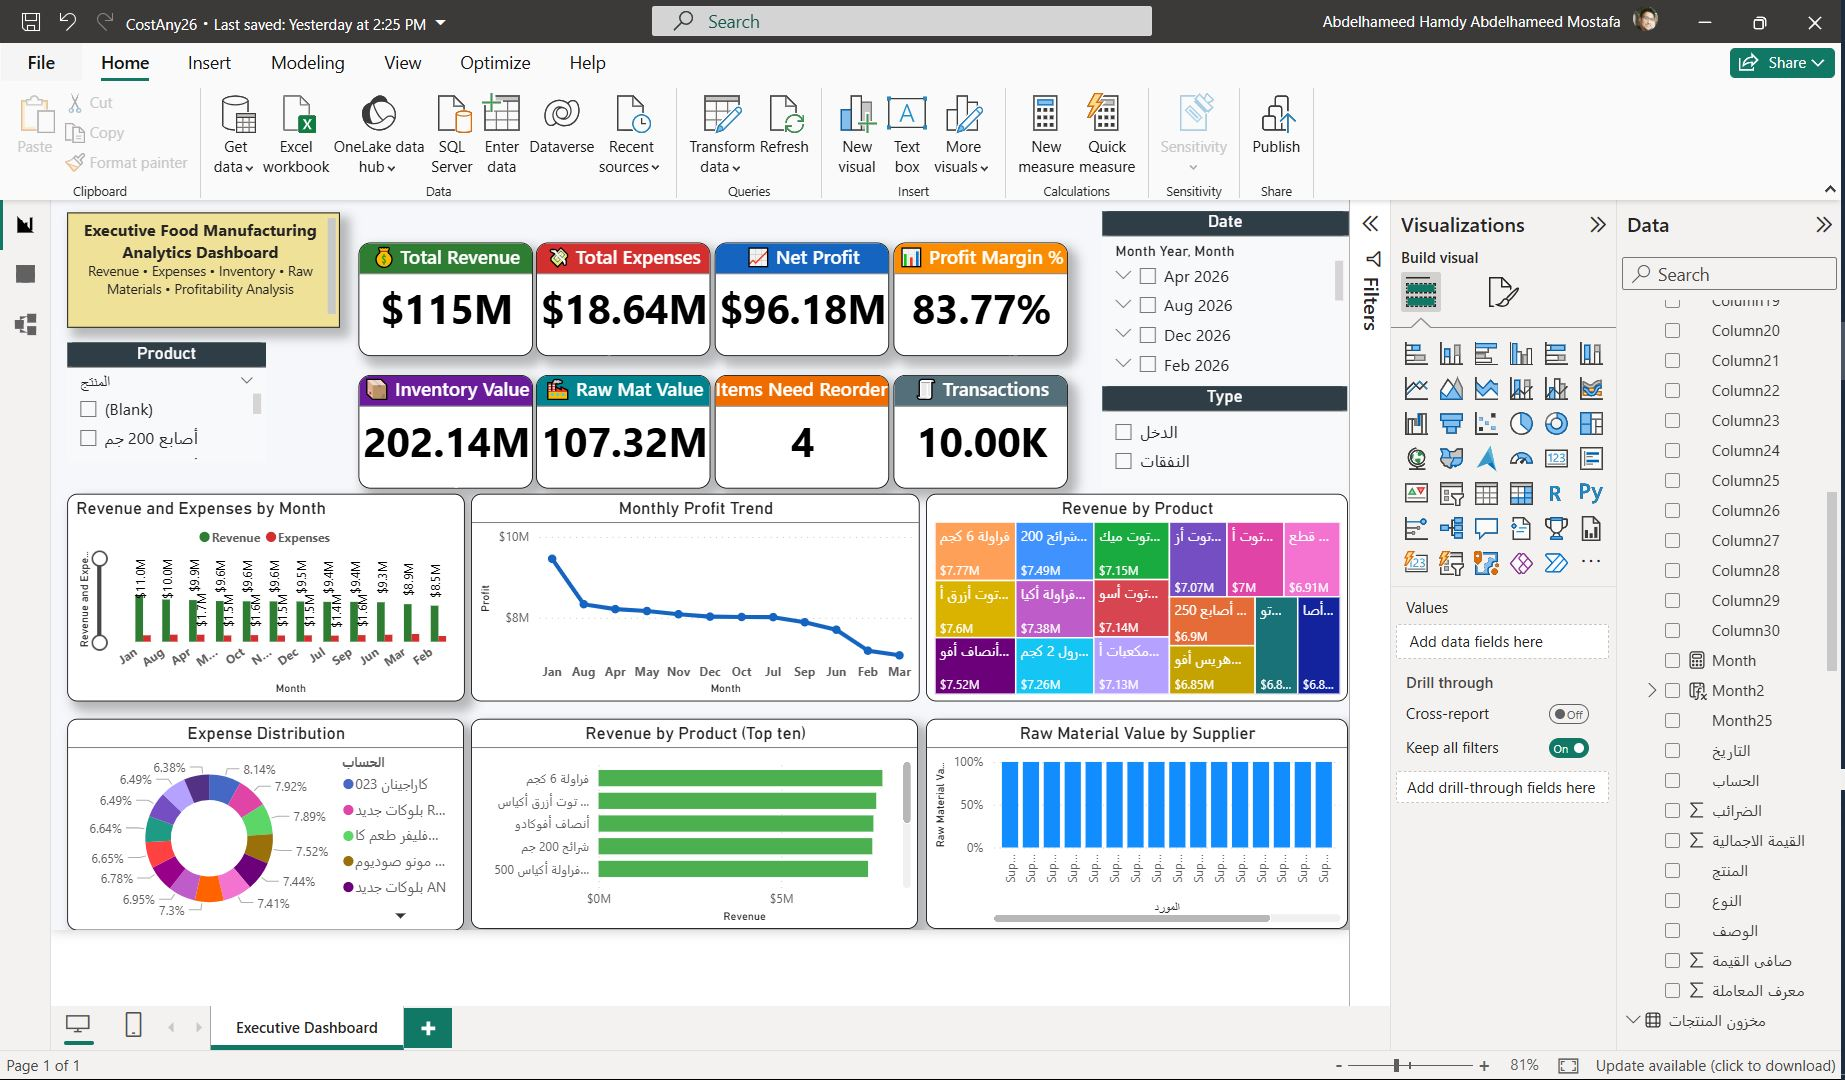

The page's visual inventory and layout, read from the dashboard file:
{"tool":"powerbi","page":{"name":"Executive Dashboard","canvas":[1280,720],"ordinal":0},"visuals":[{"type":"card","title":"💰 Total Revenue","fields":{"Values":["Table.Revenue"]},"box":[302.7,41.5,172,112],"z":0},{"type":"card","title":"💸 Total Expenses","fields":{"Values":["Table.Expenses"]},"box":[478.7,41.5,172,112],"z":1000},{"type":"card","title":"📈 Net Profit","fields":{"Values":["Table.Profit"]},"box":[654.7,41.5,172,112],"z":2000},{"type":"card","title":"📊 Profit Margin %","fields":{"Values":["Table.Profit Margin"]},"box":[830.7,41.5,172,112],"z":3000},{"type":"card","title":"📦 Inventory Value","fields":{"Values":["Table.Inventory Value"]},"box":[302.8,172.8,172,112],"z":4000},{"type":"card","title":"🏭 Raw Mat Value","fields":{"Values":["Table.Raw Material Value"]},"box":[478.8,172.8,172,112],"z":5000},{"type":"card","title":"Items Need Reorder","fields":{"Values":["Table.Need Reorder"]},"box":[654.8,172.8,172,112],"z":6000},{"type":"card","title":"🧾 Transactions","fields":{"Values":["Table.Transaction"]},"box":[830.8,172.8,172,112],"z":7000},{"type":"clusteredColumnChart","fields":{"Category":["Calendar.Month"],"Y":["Table.Revenue","Table.Expenses"]},"box":[15.7,289.2,392.1,204.9],"z":8000},{"type":"lineChart","title":"Monthly Profit Trend","fields":{"Category":["Calendar.Month"],"Y":["Table.Profit"]},"box":[413.7,289.2,442.2,204.9],"z":9000},{"type":"treemap","title":"Revenue by Product","fields":{"Group":["سجل المعاملات (2).المنتج"],"Values":["Table.Revenue"]},"box":[863.2,289.2,415.7,204.9],"z":10000},{"type":"donutChart","title":"Expense Distribution","fields":{"Category":["سجل المعاملات (2).الحساب"],"Y":["Table.Expenses"]},"box":[16.2,511.8,391.2,208.8],"z":11000},{"type":"barChart","title":"Revenue by Product (Top ten)","fields":{"Category":["سجل المعاملات (2).المنتج"],"Y":["Table.Revenue"]},"box":[414.7,511.8,441.2,207.4],"z":12000},{"type":"hundredPercentStackedColumnChart","title":"Raw Material Value by Supplier","fields":{"Y":["Table.Raw Material Value"],"Category":["مخزون المواد.المورد"]},"box":[863.2,511.8,416.2,207.4],"z":13000},{"type":"slicer","title":"Date","fields":{"Values":["Calendar.Month Year","Calendar.Month"]},"box":[1036.7,11.1,242.8,170.1],"z":14000},{"type":"slicer","title":"Product","fields":{"Values":["سجل المعاملات (2).المنتج"]},"box":[16,140.5,196,119.6],"z":15000},{"type":"slicer","title":"Type","fields":{"Values":["سجل المعاملات (2).النوع"]},"box":[1036.7,183.7,241.6,101.1],"z":17000},{"type":"textbox","box":[16,12.3,268.7,113.4],"z":18000}]}

Visuals, with their boxes on the page's 1280x720 design canvas (x1, y1, x2, y2). These are canvas units, not pixel positions in the 1845x1080 screenshot, which may show the page scaled, cropped or inside an application window:
"💰 Total Revenue" card: 303, 42, 475, 154
"💸 Total Expenses" card: 479, 42, 651, 154
"📈 Net Profit" card: 655, 42, 827, 154
"📊 Profit Margin %" card: 831, 42, 1003, 154
"📦 Inventory Value" card: 303, 173, 475, 285
"🏭 Raw Mat Value" card: 479, 173, 651, 285
"Items Need Reorder" card: 655, 173, 827, 285
"🧾 Transactions" card: 831, 173, 1003, 285
clusteredColumnChart - Calendar.Month x Table.Revenue: 16, 289, 408, 494
"Monthly Profit Trend" lineChart: 414, 289, 856, 494
"Revenue by Product" treemap: 863, 289, 1279, 494
"Expense Distribution" donutChart: 16, 512, 407, 721
"Revenue by Product (Top ten)" barChart: 415, 512, 856, 719
"Raw Material Value by Supplier" hundredPercentStackedColumnChart: 863, 512, 1279, 719
"Date" slicer: 1037, 11, 1280, 181
"Product" slicer: 16, 140, 212, 260
"Type" slicer: 1037, 184, 1278, 285
textbox: 16, 12, 285, 126
